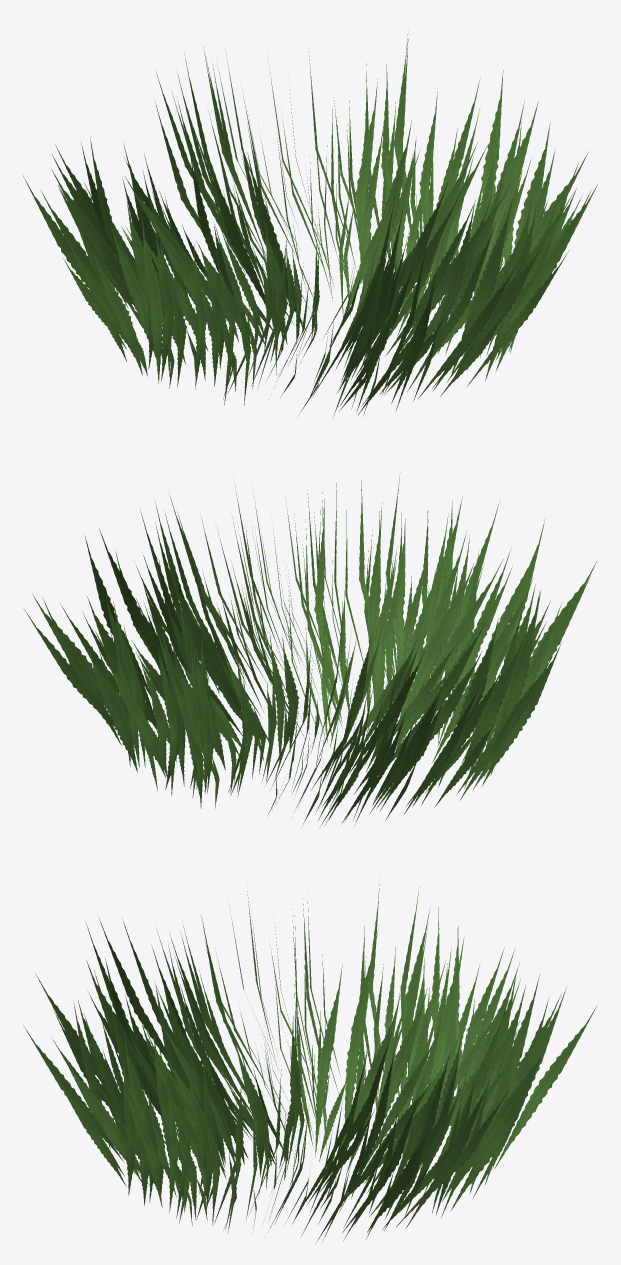
File: GRASS_04_Short_Clump.glb
3 renders of one model, top to bottom at view 1: azimuth 30°, elevation 25°; view 2: azimuth 150°, elevation 25°; view 3: azimuth 270°, elevation 25°, orthographic. The views are drawn at different scales.
Visible parts, largest first — view 1: GRASS_04_Short_Clump__FoliageCards; view 2: GRASS_04_Short_Clump__FoliageCards; view 3: GRASS_04_Short_Clump__FoliageCards.
Part boxes in pixels (left/top/right/bottom): GRASS_04_Short_Clump__FoliageCards: left=23, top=33, right=597, bottom=416; GRASS_04_Short_Clump__FoliageCards: left=23, top=472, right=597, bottom=826; GRASS_04_Short_Clump__FoliageCards: left=23, top=879, right=597, bottom=1242.
Bounding box in the file's own units: 0.6104 × 0.2622 × 0.6571.
Materials: 1 (1 with a texture image).
